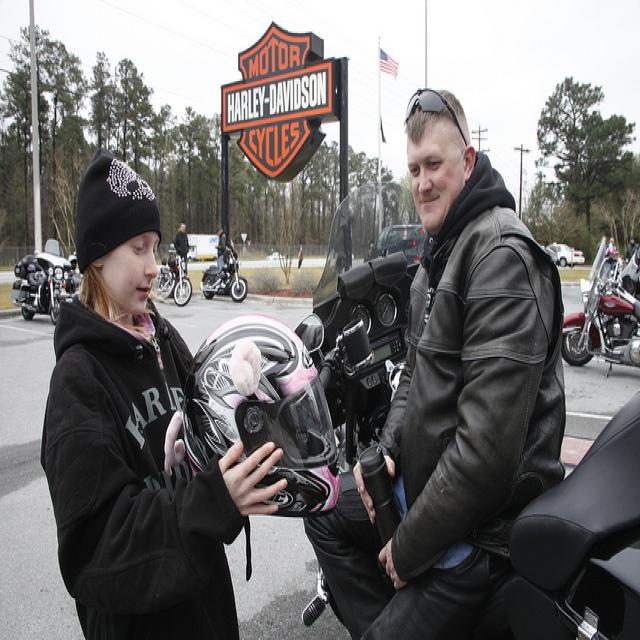motor: (299, 177, 640, 639), (562, 236, 640, 379), (10, 238, 73, 326), (201, 246, 249, 302), (607, 247, 640, 300), (167, 243, 193, 307), (150, 265, 175, 300)
